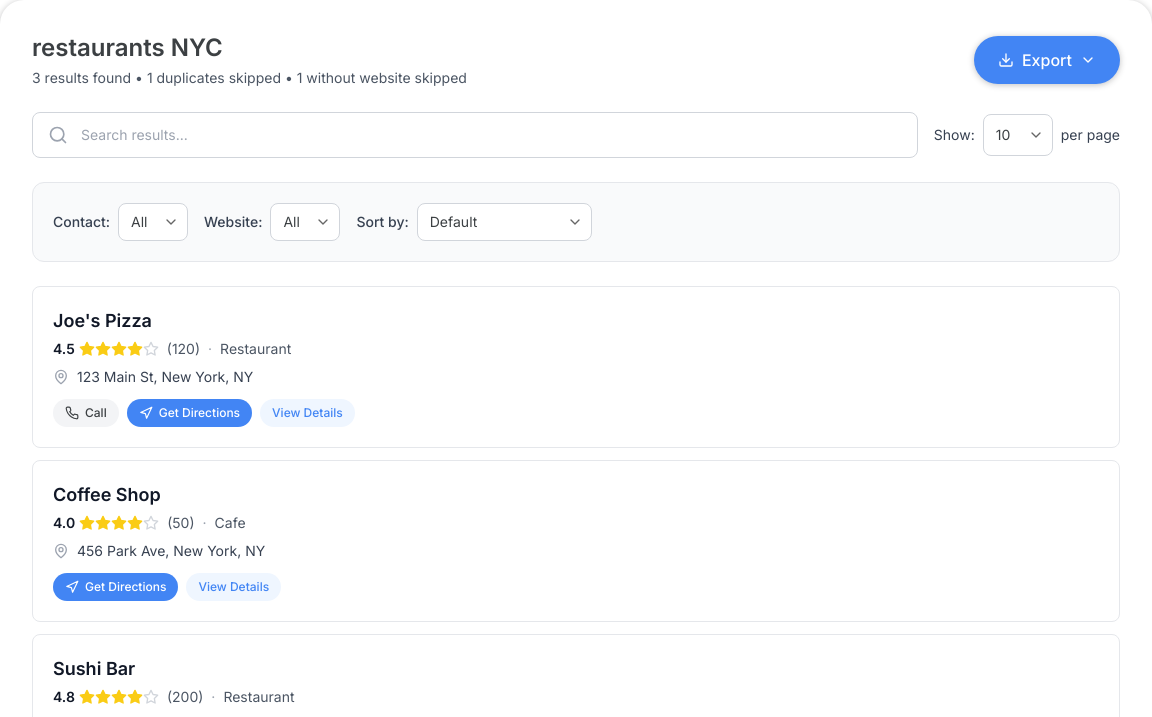
it: ResultsTable › should filter results by search term
Type "pizza" into the field with placeholder "Search results...".
click(475, 135); type("pizza")  # box [32,112,918,158]
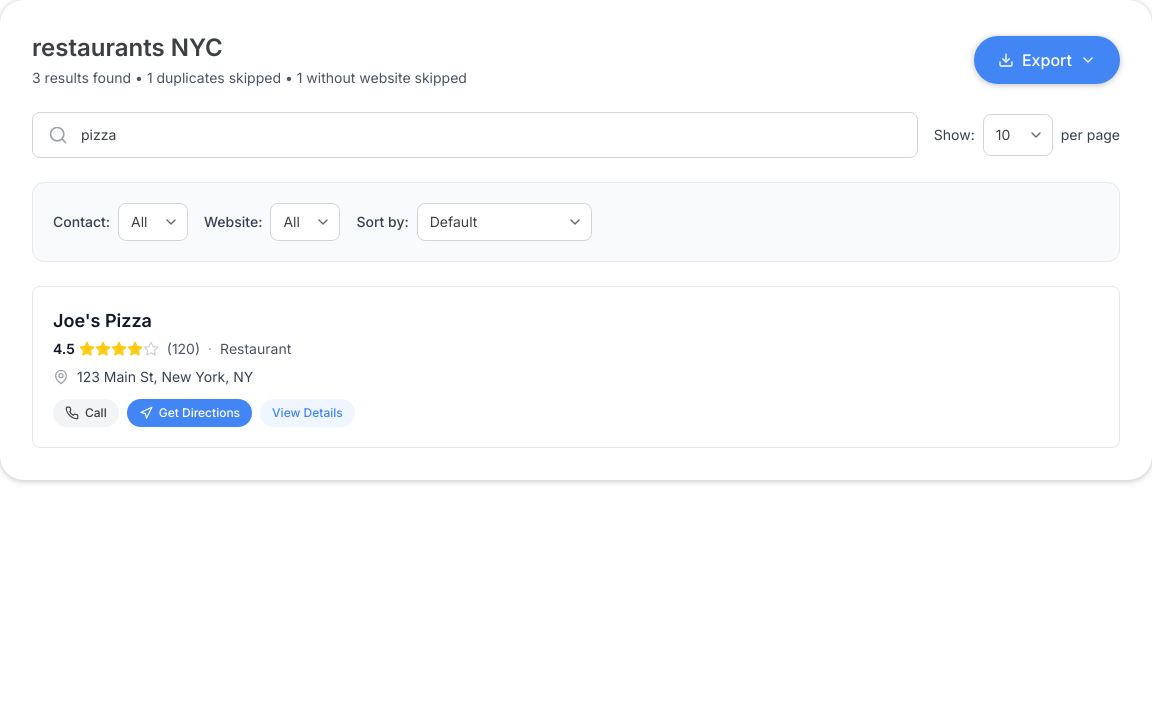
Check: the heading "Joe's Pizza" is shown, box [53,310,152,331]
Check: the heading "Coffee Shop" is gone
Check: the heading "Sushi Bar" is gone
